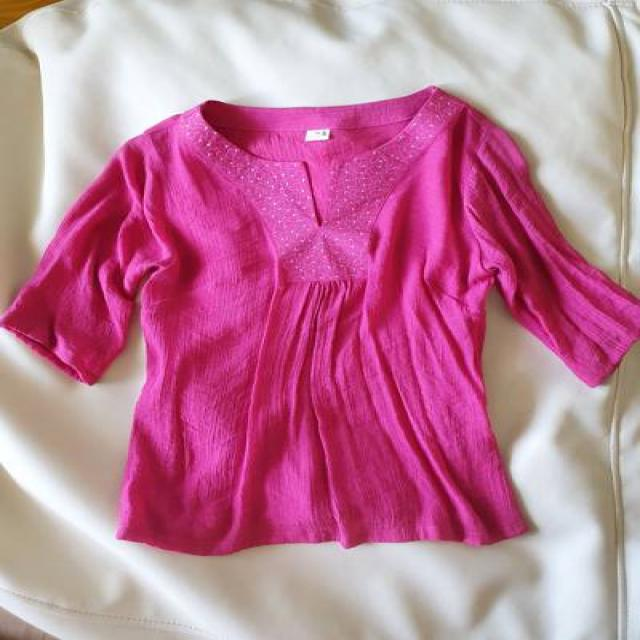Clothes -Biodegradable-: (0, 88, 640, 556)
